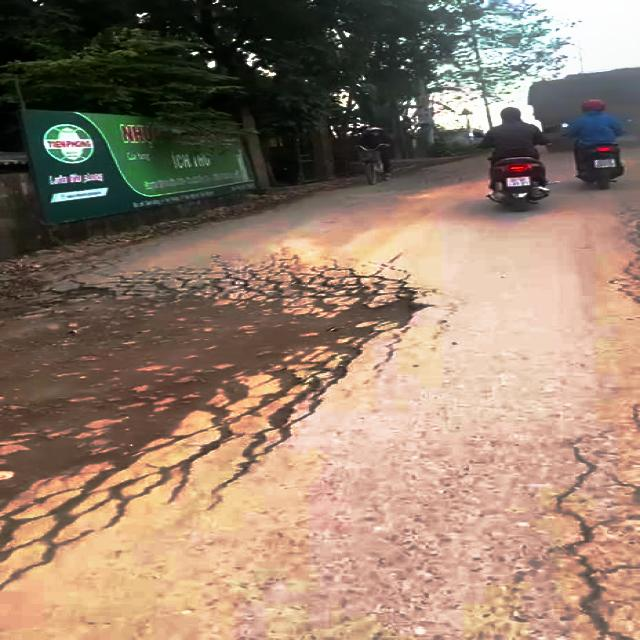pothole: (0, 268, 419, 541)
